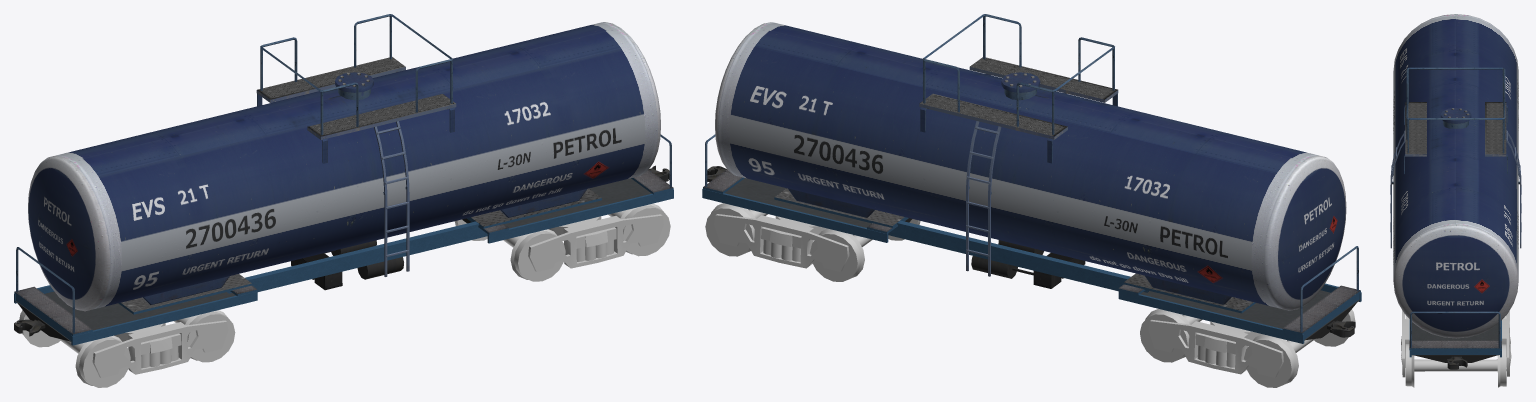
The model's file is TrainTank05.FBX.
The picture shows the model from 3 angles, left to right: view 1: azimuth 30°, elevation 25°; view 2: azimuth 150°, elevation 25°; view 3: azimuth 270°, elevation 25°; orthographic projection. The views are drawn at different scales.
Parts seen in each view (by area): view 1: TrainTank05, TrainTank0Wheels, TrainTank0DetailBlue1, TrainTank0Down; view 2: TrainTank05, TrainTank0Wheels, TrainTank0DetailBlue1, TrainTank0Down; view 3: TrainTank05, TrainTank0Wheels, TrainTank0DetailBlue1, TrainTank0Down.
Boxes of the visible parts, <box> form: TrainTank05: <box>16,14,671,333</box>; TrainTank0Wheels: <box>19,203,670,387</box>; TrainTank0DetailBlue1: <box>14,170,673,345</box>; TrainTank0Down: <box>14,165,669,341</box>; TrainTank05: <box>705,14,1358,332</box>; TrainTank0Wheels: <box>705,203,1355,387</box>; TrainTank0DetailBlue1: <box>702,169,1361,343</box>; TrainTank0Down: <box>707,166,1359,340</box>; TrainTank05: <box>1390,14,1521,347</box>; TrainTank0Wheels: <box>1401,310,1511,387</box>; TrainTank0DetailBlue1: <box>1409,320,1501,357</box>; TrainTank0Down: <box>1412,322,1498,369</box>.
Bounding box in the file's own units: 19420 × 7027 × 4327.
